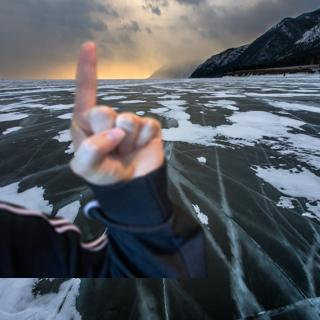IRRITATED: (64, 38, 166, 189)
